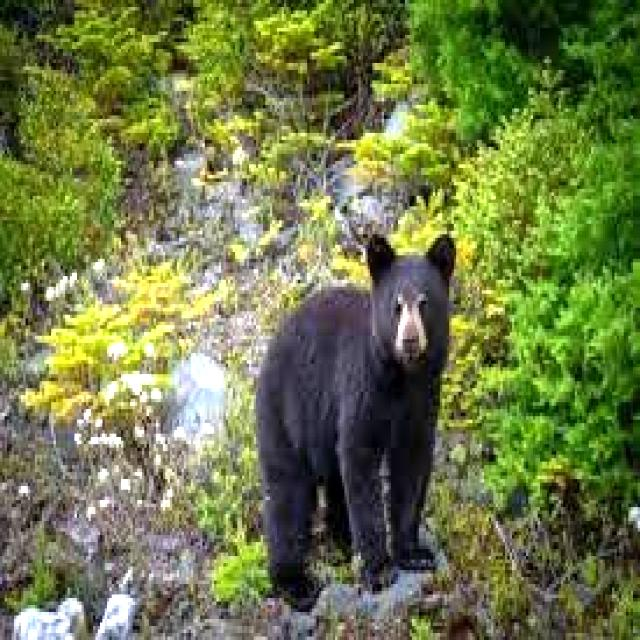bear: (251, 214, 454, 580)
